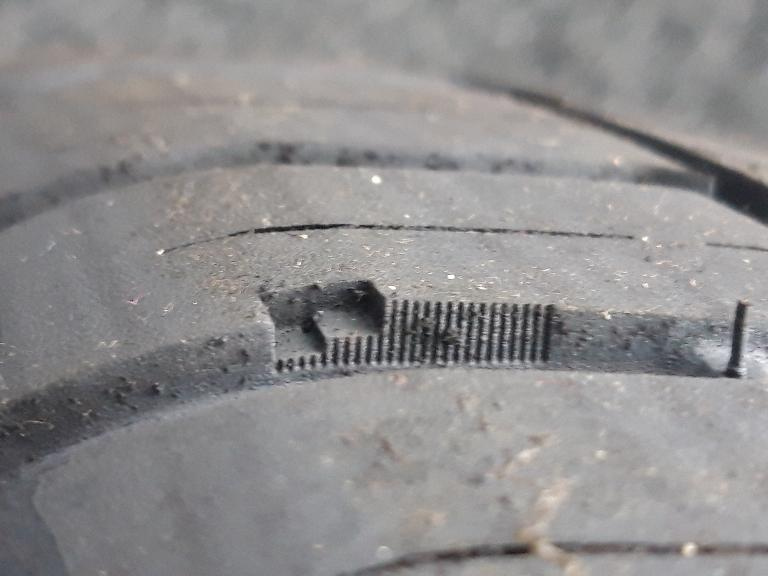temoin:50: (248, 269, 446, 383)
